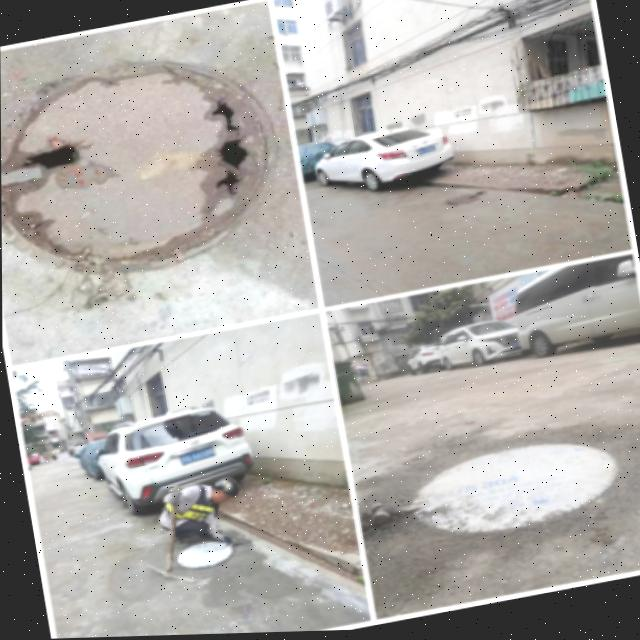manhole: (0, 35, 291, 292)
